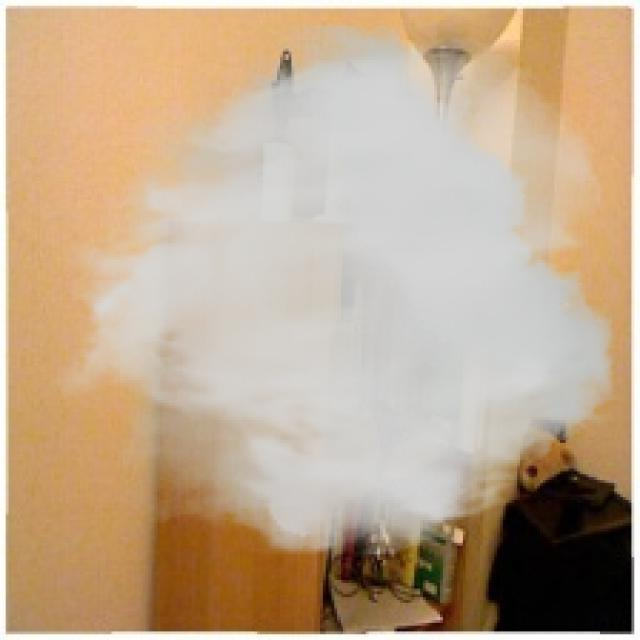Smoke: (51, 26, 614, 563)
